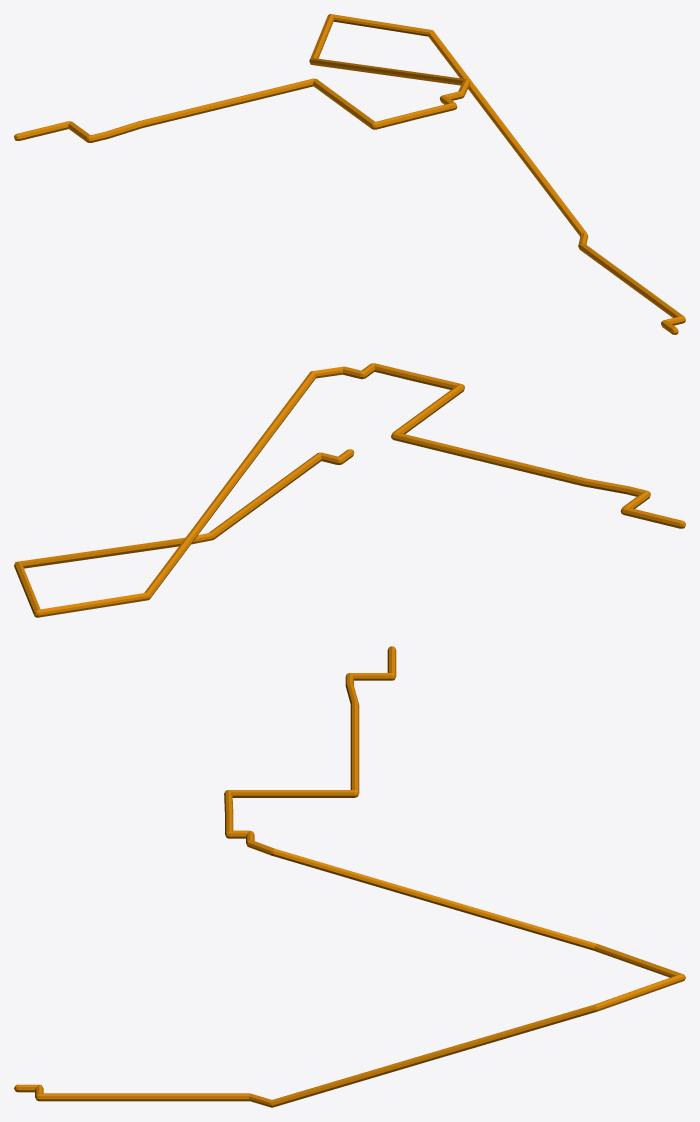
3 views of the same model, one above another, from view 1: azimuth 30°, elevation 25°; view 2: azimuth 150°, elevation 25°; view 3: azimuth 270°, elevation 25° (orthographic). The views are drawn at different scales.
Size of the model in its own units: 1492 by 520 by 1592.
